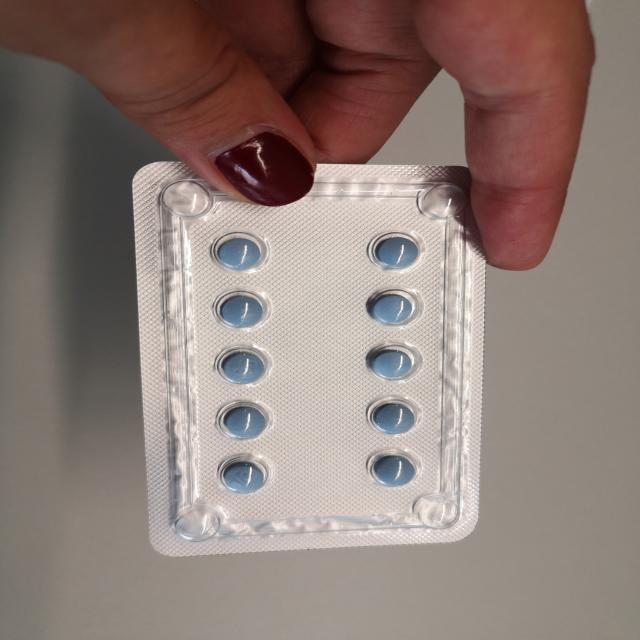Pill: (204, 284, 300, 339), (198, 226, 291, 282), (356, 386, 438, 442), (350, 224, 433, 272), (364, 279, 431, 331), (212, 396, 280, 447), (204, 457, 286, 498), (361, 338, 428, 386), (362, 449, 433, 490), (211, 346, 279, 387)
